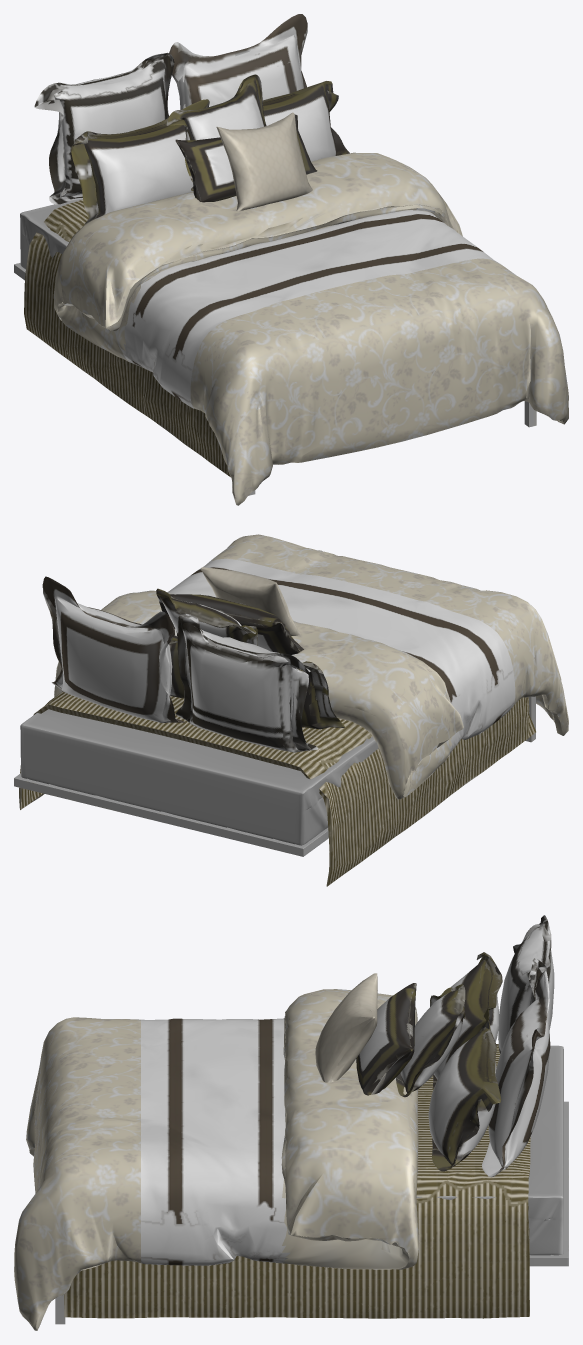
File: raw_model.obj
3 renders of one model, top to bottom at view 1: azimuth 30°, elevation 25°; view 2: azimuth 150°, elevation 25°; view 3: azimuth 270°, elevation 25°, orthographic. The views are drawn at different scales.
Visible parts, largest first — view 1: solid_002, solid_004, solid_006, solid_003, solid_007, solid_008, solid_009, solid_005; view 2: solid_002, solid_005, solid_003, solid_004, solid_007, solid_008, solid_006, solid_001, solid_009; view 3: solid_002, solid_003, solid_004, solid_006, solid_008, solid_005, solid_009, solid_007, solid_001.
Part boxes in pixels (x1,y1,x2,y2): solid_002: (53, 152, 568, 505); solid_004: (120, 208, 496, 408); solid_006: (71, 74, 349, 224); solid_003: (24, 199, 230, 477); solid_007: (34, 52, 174, 204); solid_008: (169, 14, 307, 109); solid_009: (216, 112, 312, 211); solid_005: (20, 198, 82, 269); solid_002: (54, 534, 568, 799); solid_005: (20, 709, 378, 845); solid_003: (19, 691, 535, 886); solid_004: (167, 558, 515, 755); solid_007: (175, 613, 318, 752); solid_008: (42, 576, 185, 722); solid_006: (133, 588, 344, 729); solid_001: (14, 696, 535, 856); solid_009: (200, 567, 300, 635); solid_002: (14, 989, 418, 1330); solid_003: (64, 1044, 530, 1318); solid_004: (141, 1018, 290, 1265); solid_006: (356, 952, 502, 1171); solid_008: (482, 970, 550, 1177); solid_005: (372, 1045, 563, 1255); solid_009: (315, 973, 377, 1082); solid_007: (498, 915, 554, 1053); solid_001: (55, 1101, 568, 1324).
Size of the model in its own units: 1.81 by 1.23 by 2.2.
Materials: 1 (1 with a texture image).
